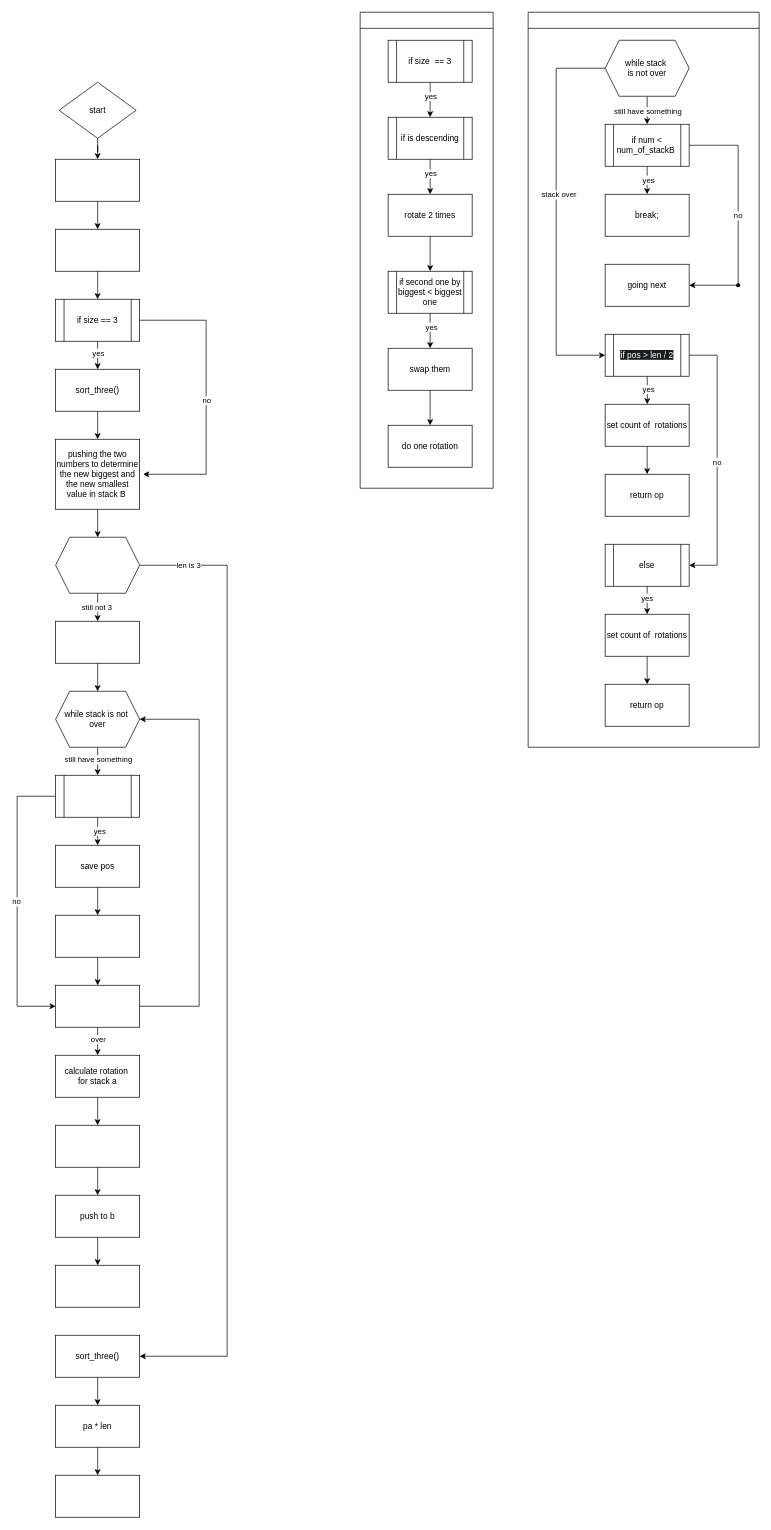
This 771x1530 diagram has some shape labels left out. The box of each missing label's shape, as (x1, y1, x2, y2) in pixels:
calc_op: (527, 12, 759, 747)
check size of stack A: (55, 229, 140, 271)
do_smart_rotation: (55, 1125, 140, 1167)
go next: (55, 985, 140, 1027)
if op < calc_op(): (55, 775, 140, 817)
len--: (55, 1265, 140, 1307)
retrieve args: (55, 159, 140, 201)
rra * 3: (55, 1475, 140, 1517)
save op: (55, 915, 140, 957)
set start: (55, 621, 140, 663)
sort_three: (359, 12, 493, 488)
while len is not 3: (55, 537, 140, 593)
